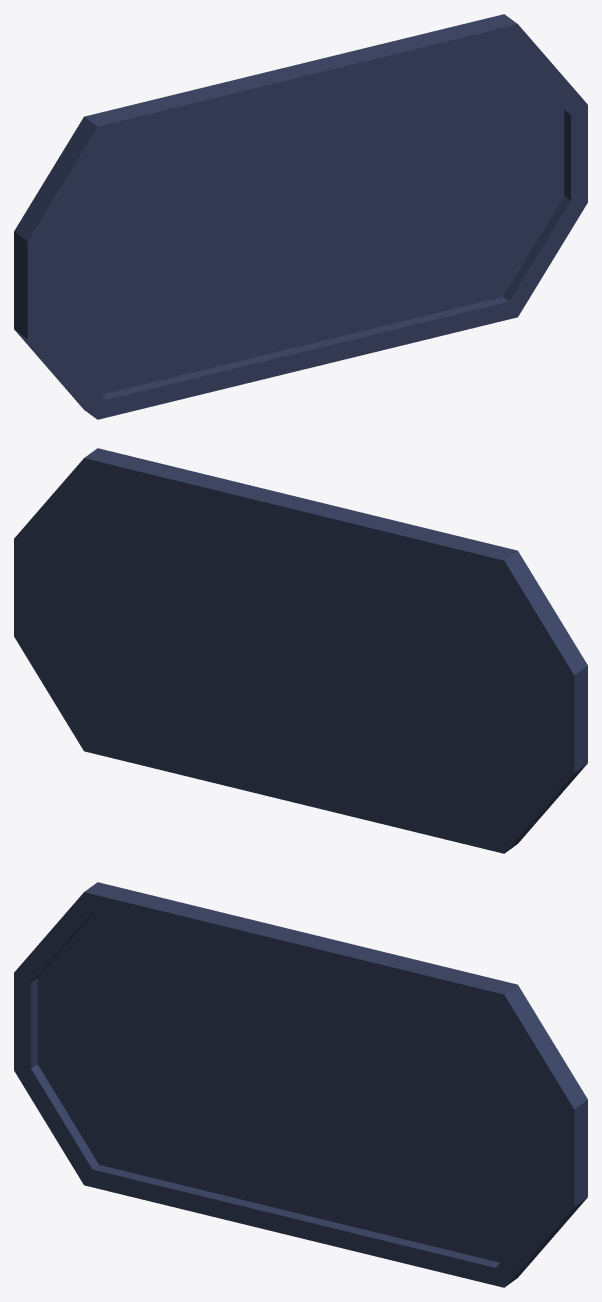
File: signbase.fbx
3 renders of one model, top to bottom at view 1: azimuth 30°, elevation 25°; view 2: azimuth 150°, elevation 25°; view 3: azimuth 330°, elevation 25°, orthographic.
Visible parts, largest first — view 1: Plane.004; view 2: Plane.004; view 3: Plane.004.
Boxes of the visible parts, left/top/right/bottom form: Plane.004: left=14, top=14, right=587, bottom=419; Plane.004: left=14, top=448, right=587, bottom=853; Plane.004: left=14, top=882, right=587, bottom=1287.
Bounding box in the file's own units: 800 × 400 × 33.8.
